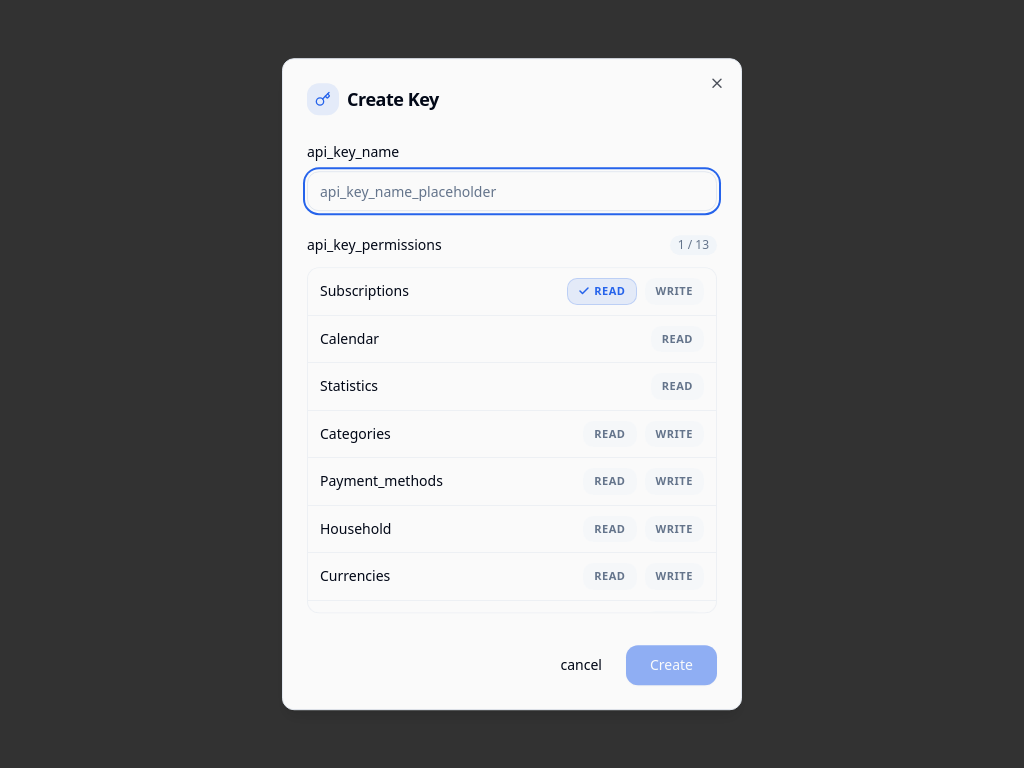
Test case: ApiKeyFormDialog › enables submit button when name is entered and permissions selected
Type "My Key" into the field with placeholder "api_key_name_placeholder".
click(512, 191); type("My Key")  # box 307,171 -> 717,211
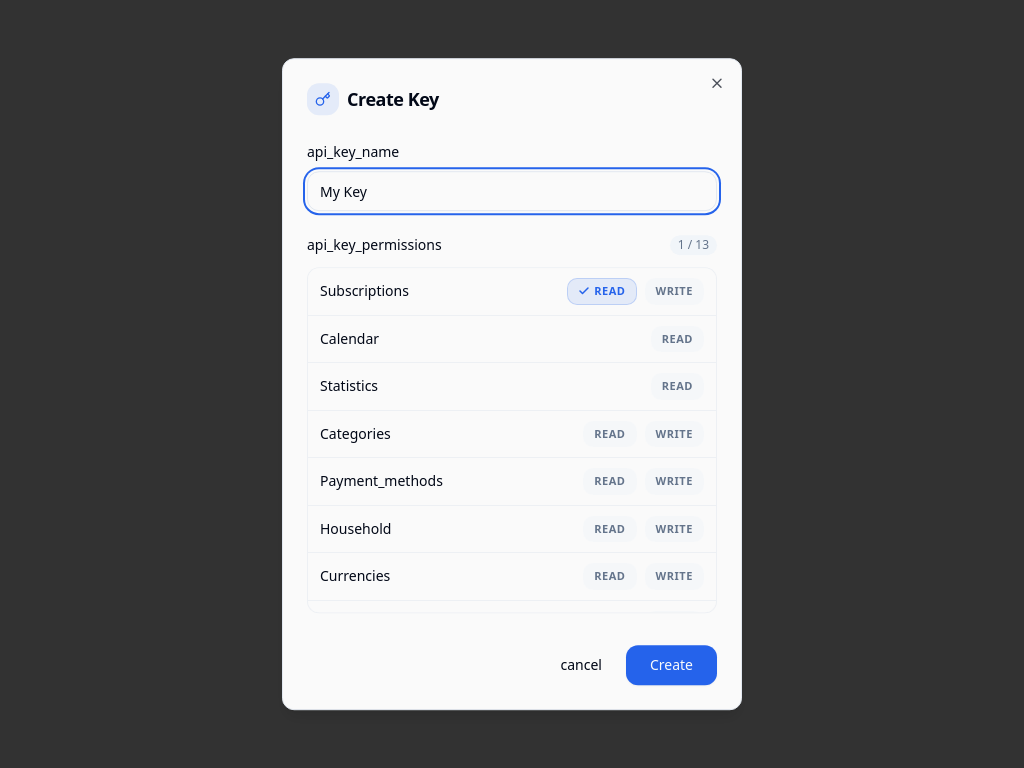
Expected: the button "Create" is enabled, 626,645 -> 717,685
